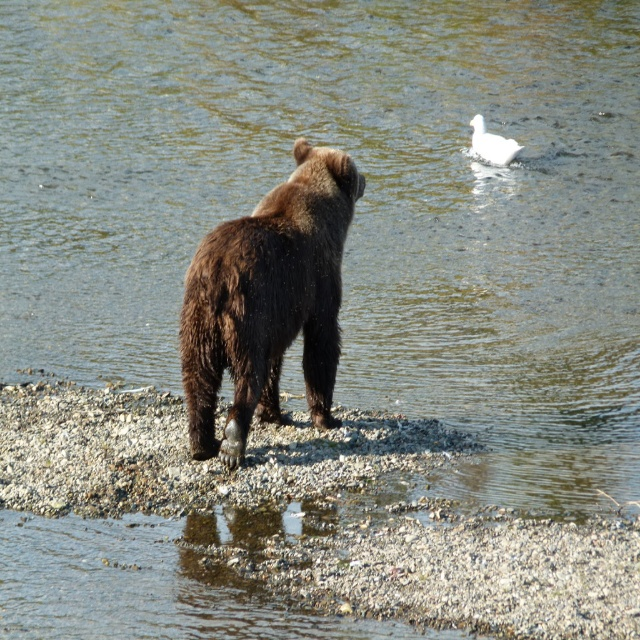Brown bear: (178, 134, 369, 472)
